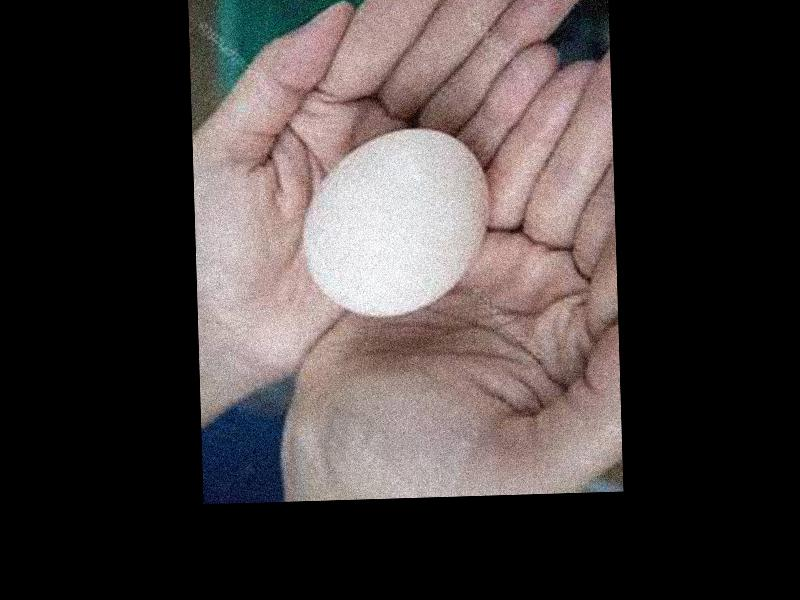Eggs: (305, 126, 487, 317)
